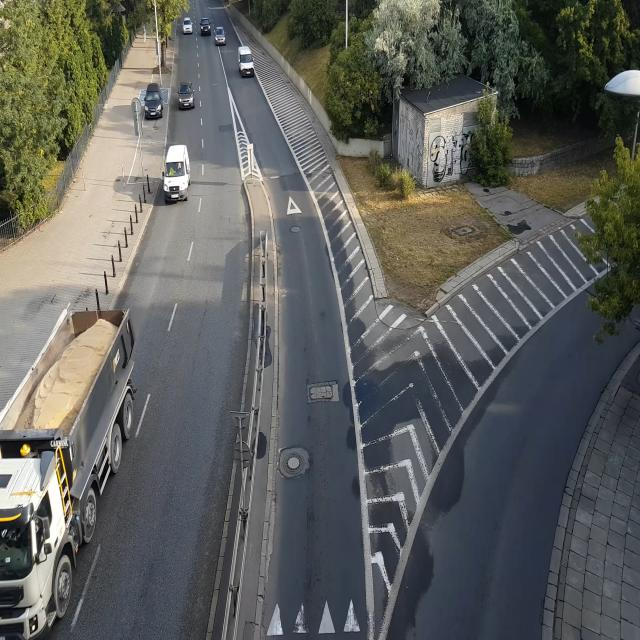car: (162, 143, 192, 203), (142, 89, 164, 119), (179, 84, 197, 110), (237, 58, 255, 78), (199, 20, 212, 35), (216, 28, 228, 44), (184, 18, 194, 34)
truck: (0, 299, 144, 640)
